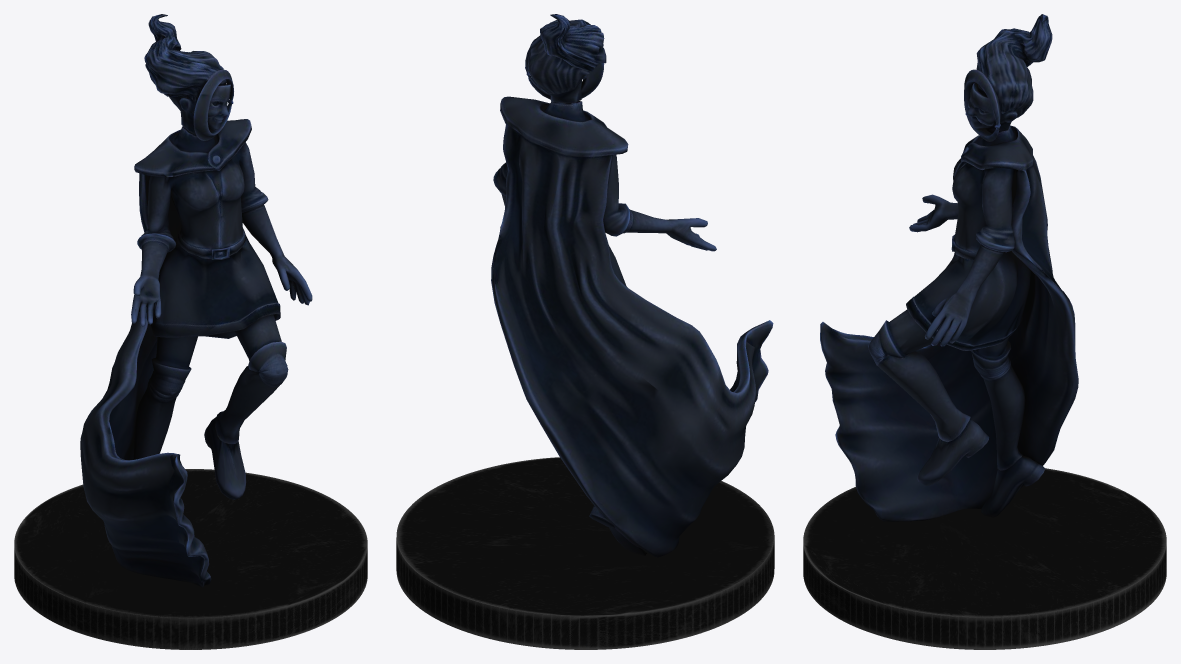
File: MZ4250 - Gleam_s Shadow.glb
3 renders of one model, left to right at view 1: azimuth 30°, elevation 25°; view 2: azimuth 150°, elevation 25°; view 3: azimuth 270°, elevation 25°, orthographic. The views are drawn at different scales.
Parts seen in each view (by area): view 1: body_low.001, base_low.001, mask_low.001; view 2: body_low.001, base_low.001, mask_low.001; view 3: body_low.001, base_low.001, mask_low.001.
Part boxes in pixels (x1,y1,x2,y2): body_low.001: [80, 14, 312, 587]; base_low.001: [14, 469, 367, 649]; mask_low.001: [193, 69, 233, 140]; body_low.001: [491, 14, 773, 557]; base_low.001: [396, 457, 774, 649]; mask_low.001: [525, 47, 604, 99]; body_low.001: [820, 14, 1078, 521]; base_low.001: [803, 468, 1166, 649]; mask_low.001: [964, 69, 1000, 141].
Size of the model in its own units: 3.79 by 6.39 by 3.78.
Materials: 1 (1 with a texture image).
